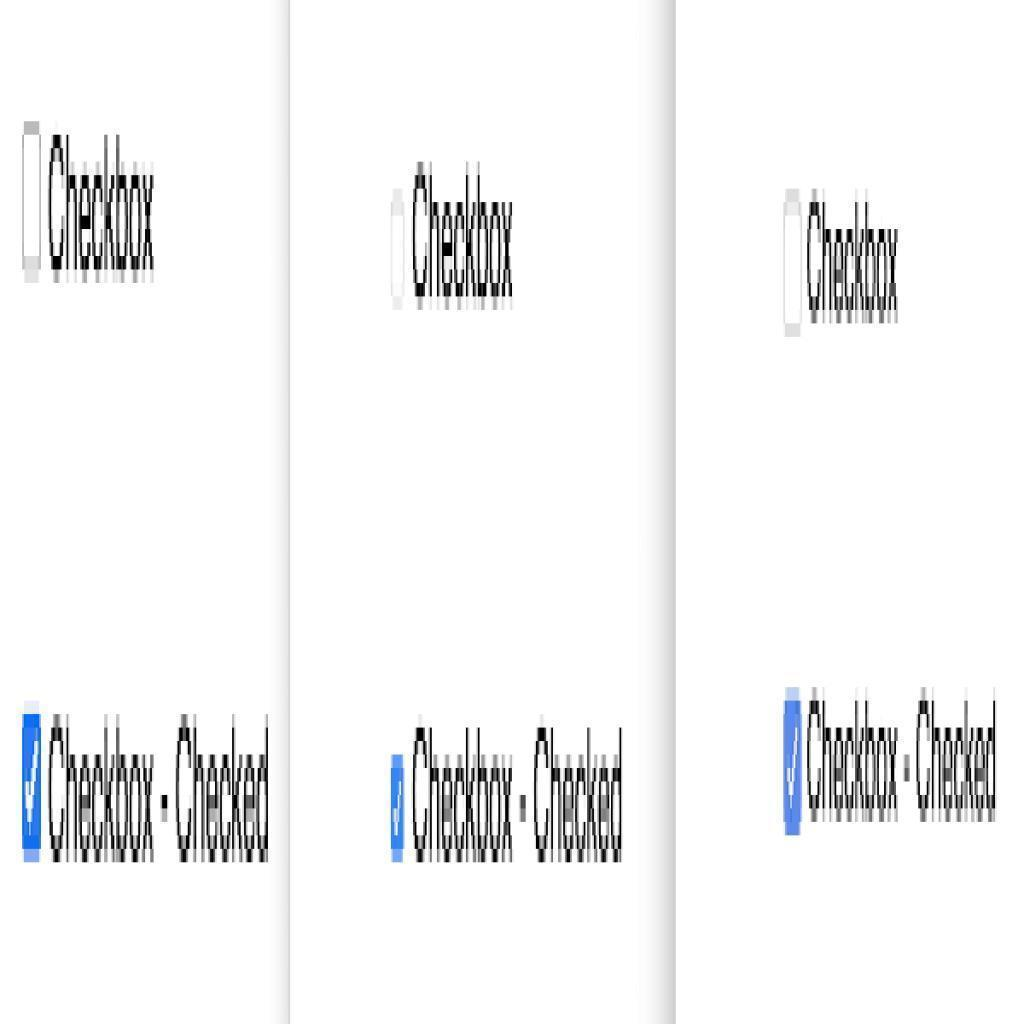checkbox: (779, 689, 809, 843), (17, 706, 45, 866), (17, 124, 42, 284), (778, 190, 804, 341), (386, 186, 407, 312), (387, 751, 406, 874)
